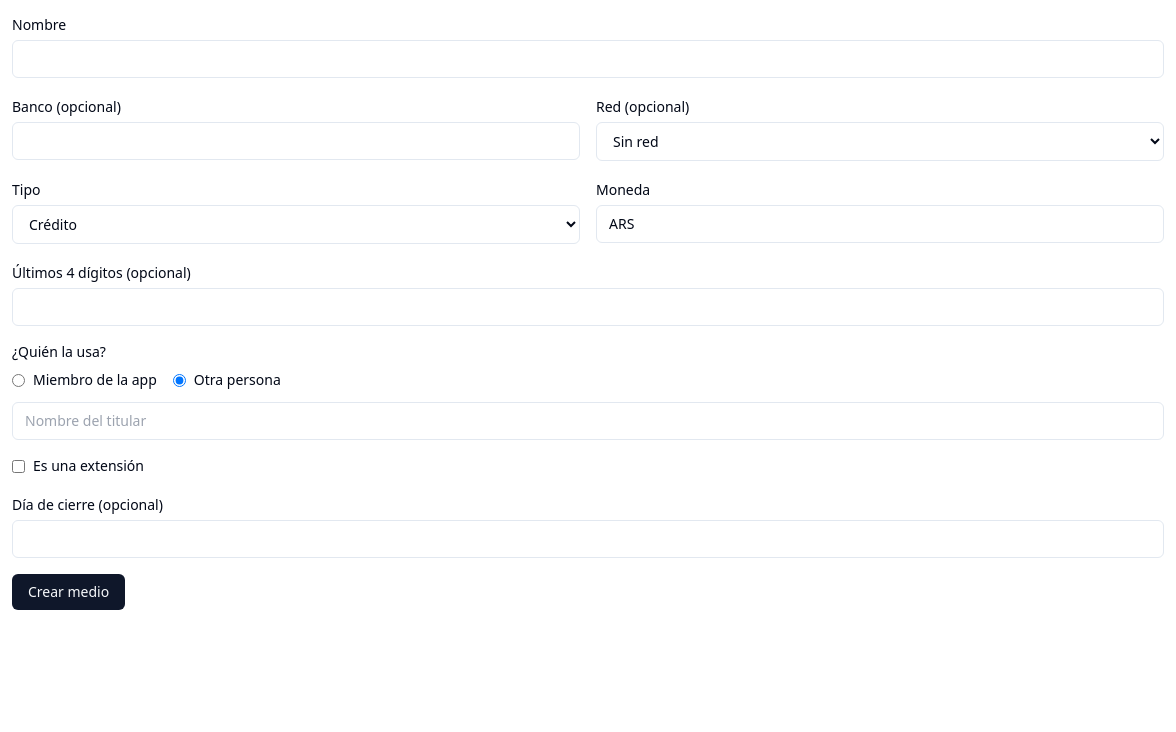
Test: AccountForm › requiere el nombre antes de enviar
This screenshot has width=1176, height=732.
Click the button "Crear medio".
click(69, 592)  # box [12, 574, 125, 610]
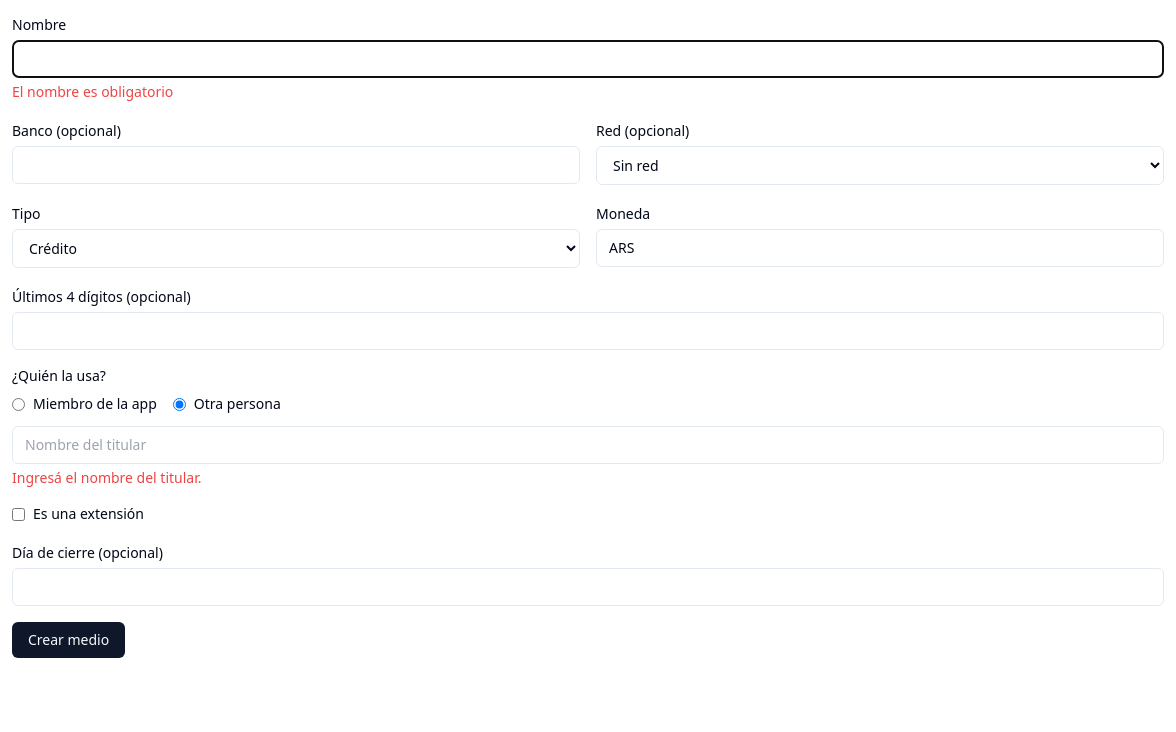
Check: the text "El nombre es obligatorio" is shown, box [12, 82, 173, 101]
